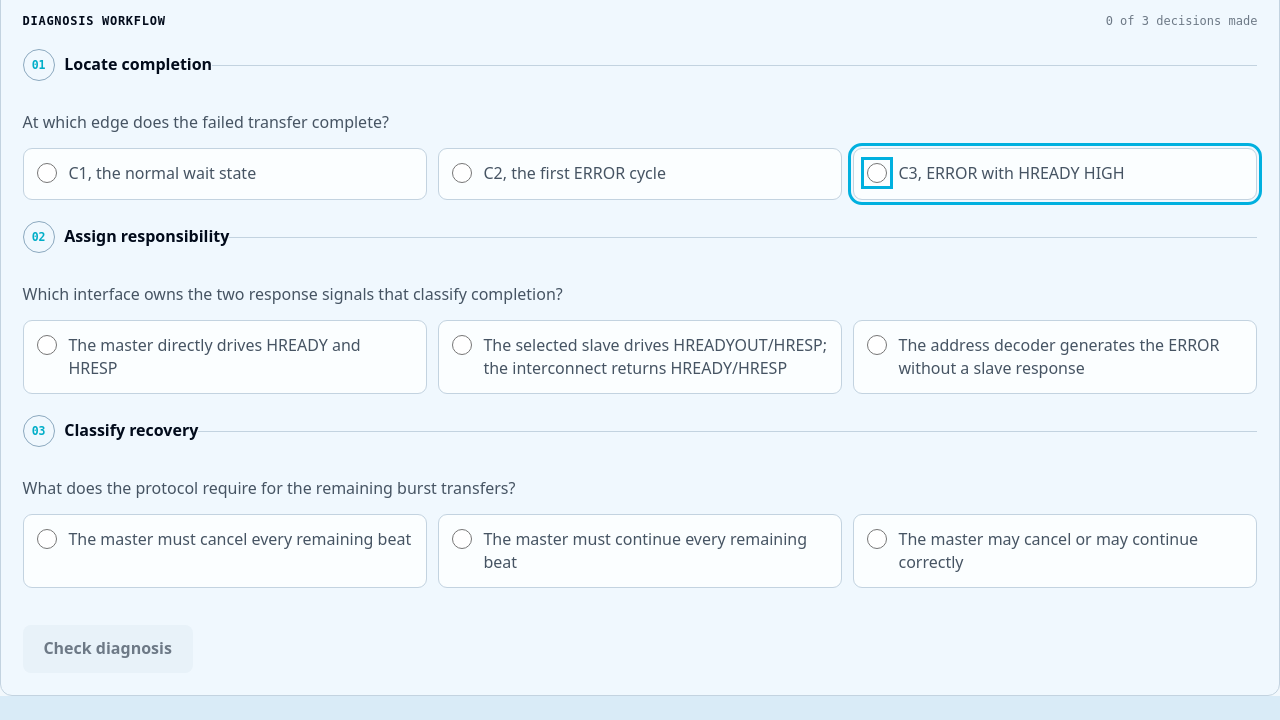
it: DiagnosticLab › supports keyboard diagnosis, per-step feedback, scoring, and reset
(page scrolled)
Check: the button "Check diagnosis" is disabled, box [23, 625, 193, 673]
Type keys " "
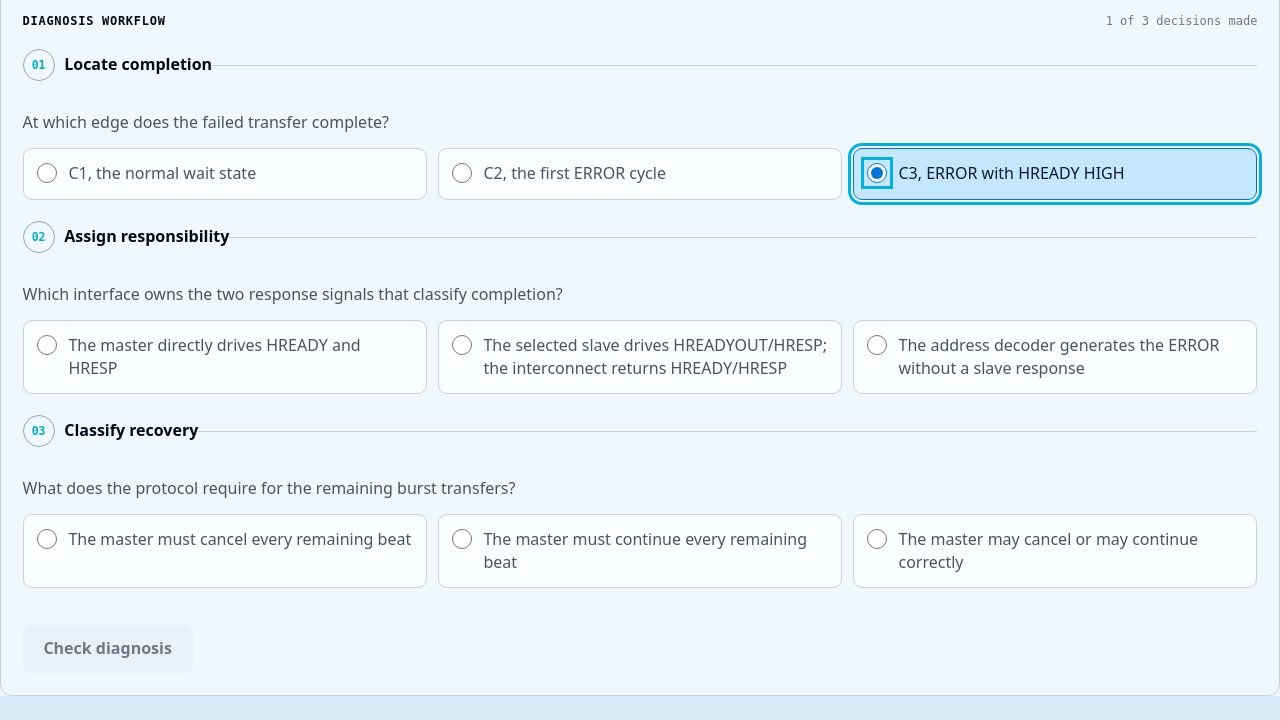
Check: the radio button labelled "C3, ERROR with HREADY HIGH" is checked, box [867, 163, 887, 183]
Click the radio button labelled "selected slave drives HREADYOUT": (462, 345) [452, 335, 472, 355]
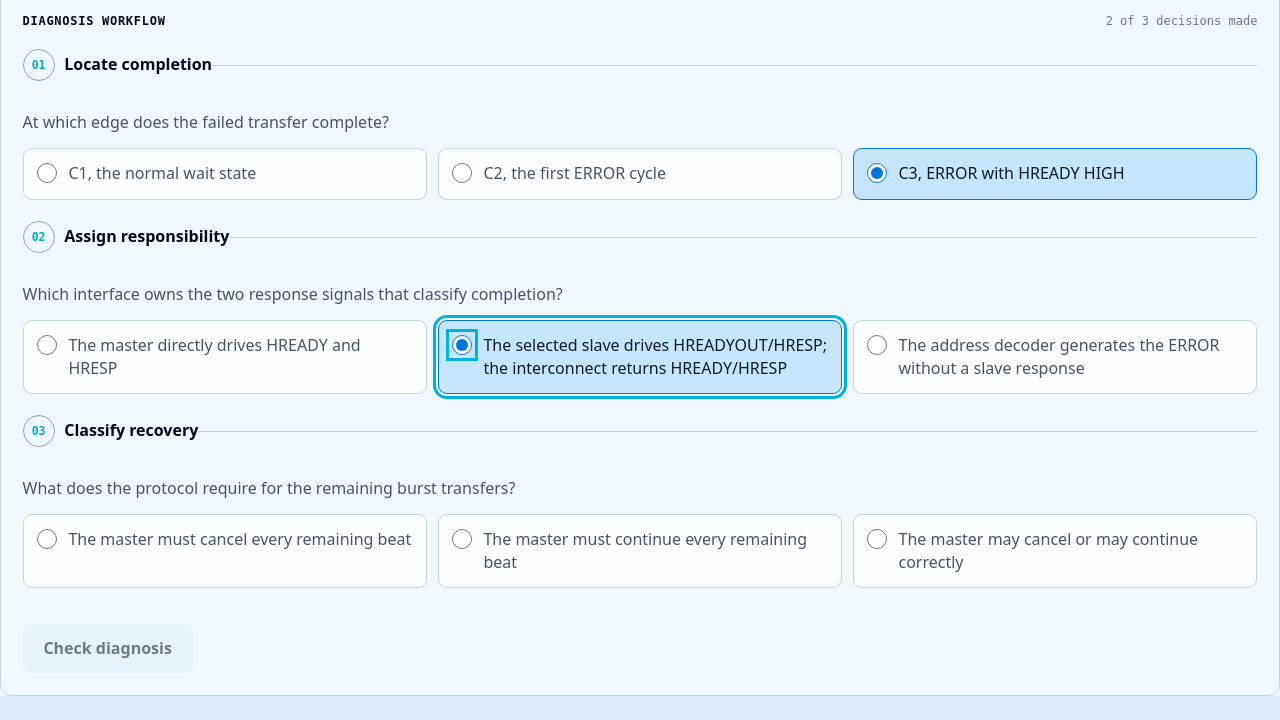
Click the radio button labelled "The master may cancel or may continue correctly": (877, 539) [867, 529, 887, 549]
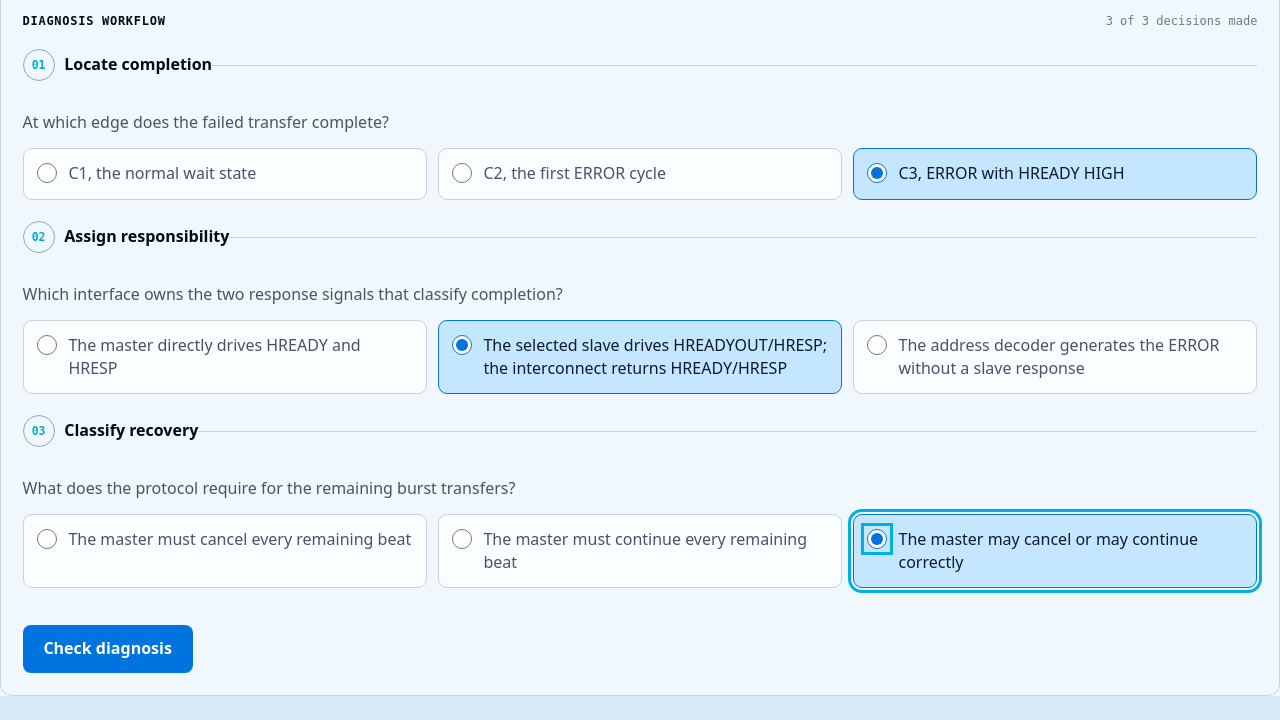
Check: the button "Check diagnosis" is enabled
Click the button "Check diagnosis": (108, 649) [23, 625, 193, 673]
(page scrolled)
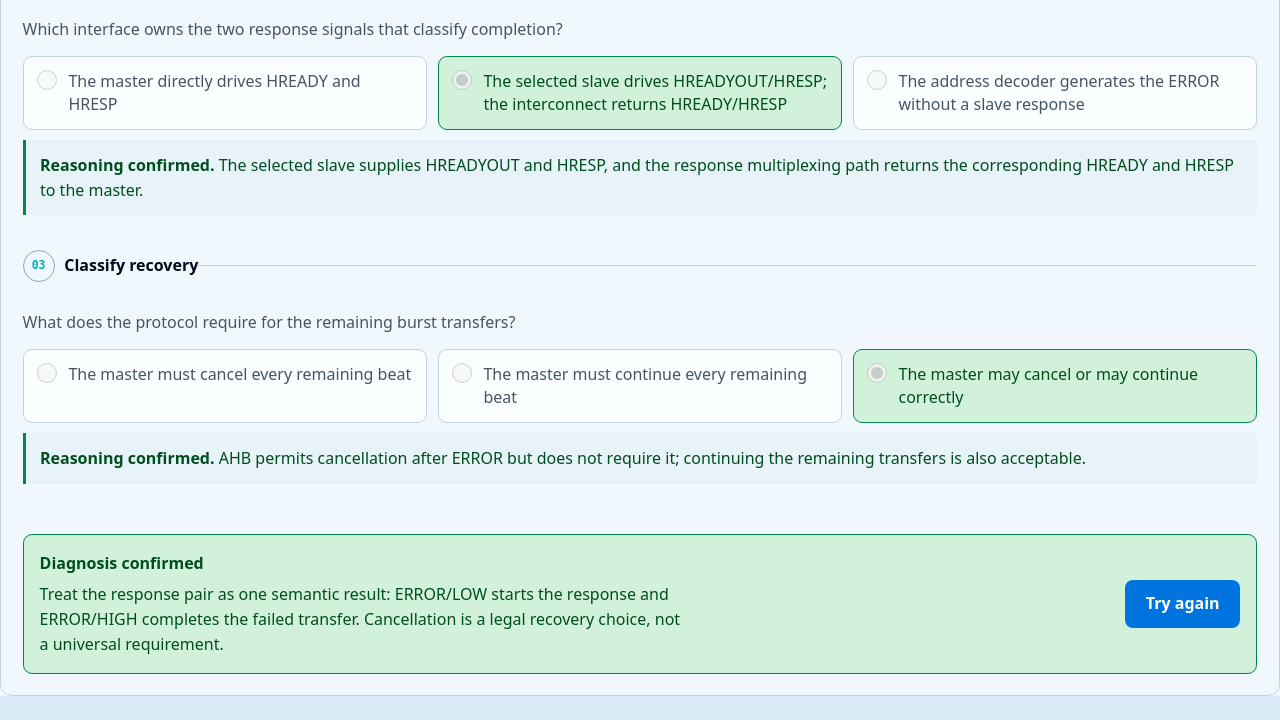
Check: the text "Diagnosis confirmed" is shown, box [40, 552, 204, 574]
Check: the text "Reasoning confirmed." is shown 3 times
Click the button "Try again": (1183, 604) [1125, 580, 1240, 628]
(page scrolled)
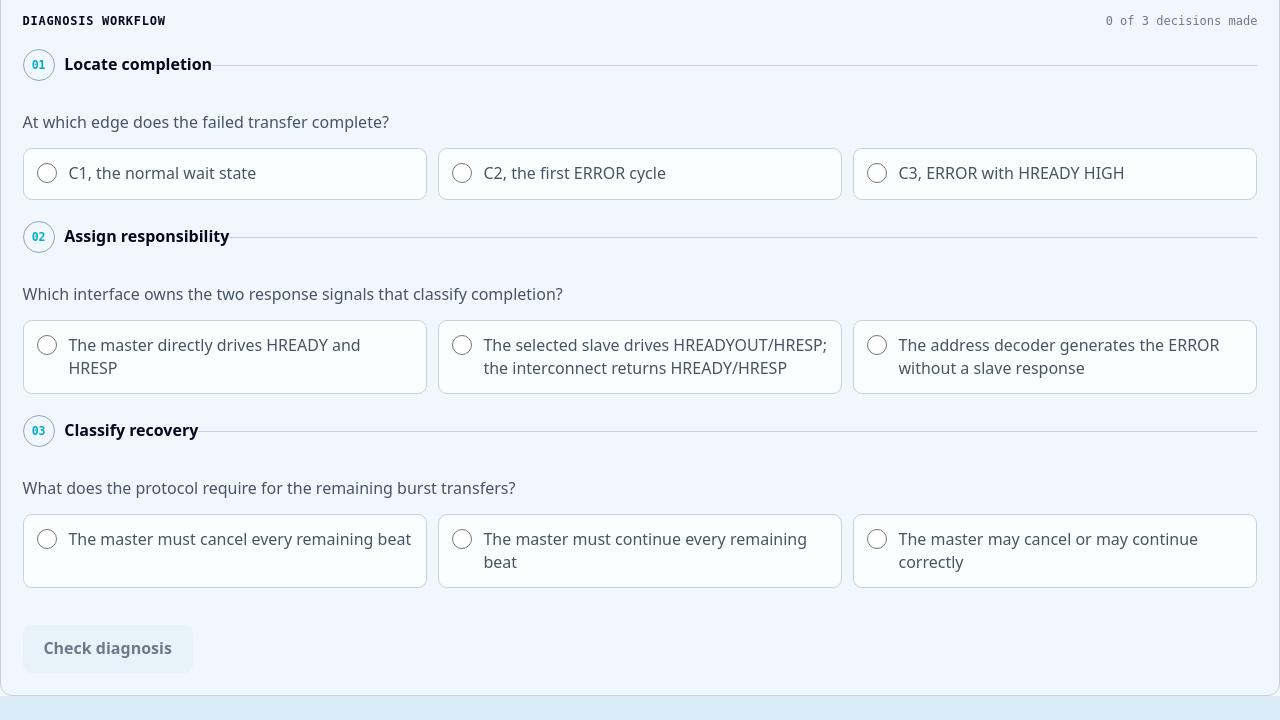
Check: the button "Check diagnosis" is disabled, box [23, 625, 193, 673]
Check: the radio button labelled "C3, ERROR with HREADY HIGH" is not checked, box [867, 163, 887, 183]
Check: the radio button labelled "C3, ERROR with HREADY HIGH" is enabled, box [867, 163, 887, 183]
